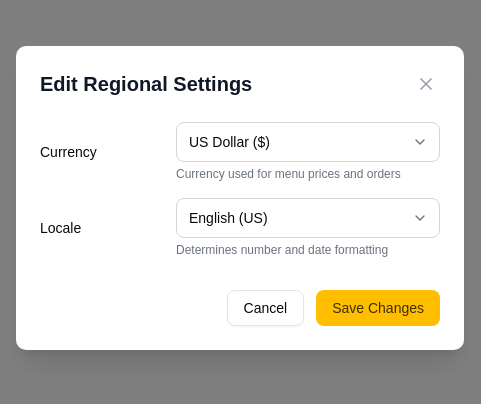
Test: TenantSettingsForm › Form Submission - Error › should display error message when action returns error
This screenshot has width=481, height=404.
Click the button "Save Changes" at (378, 308), box [316,290,440,326]
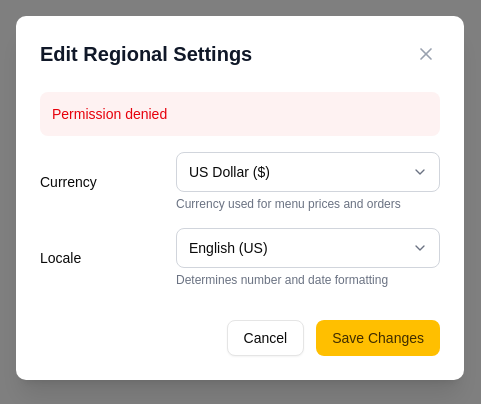
expect the text "Permission denied" is shown: met, box [40,92,440,136]
